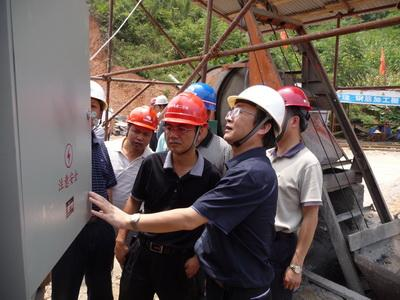hard-hat: (227, 83, 286, 136), (161, 91, 209, 127), (277, 85, 313, 110), (127, 105, 159, 132), (81, 81, 106, 99)
person: (88, 84, 286, 300), (96, 91, 223, 299), (51, 79, 118, 299), (265, 85, 324, 300), (104, 105, 159, 300), (154, 82, 233, 177)
